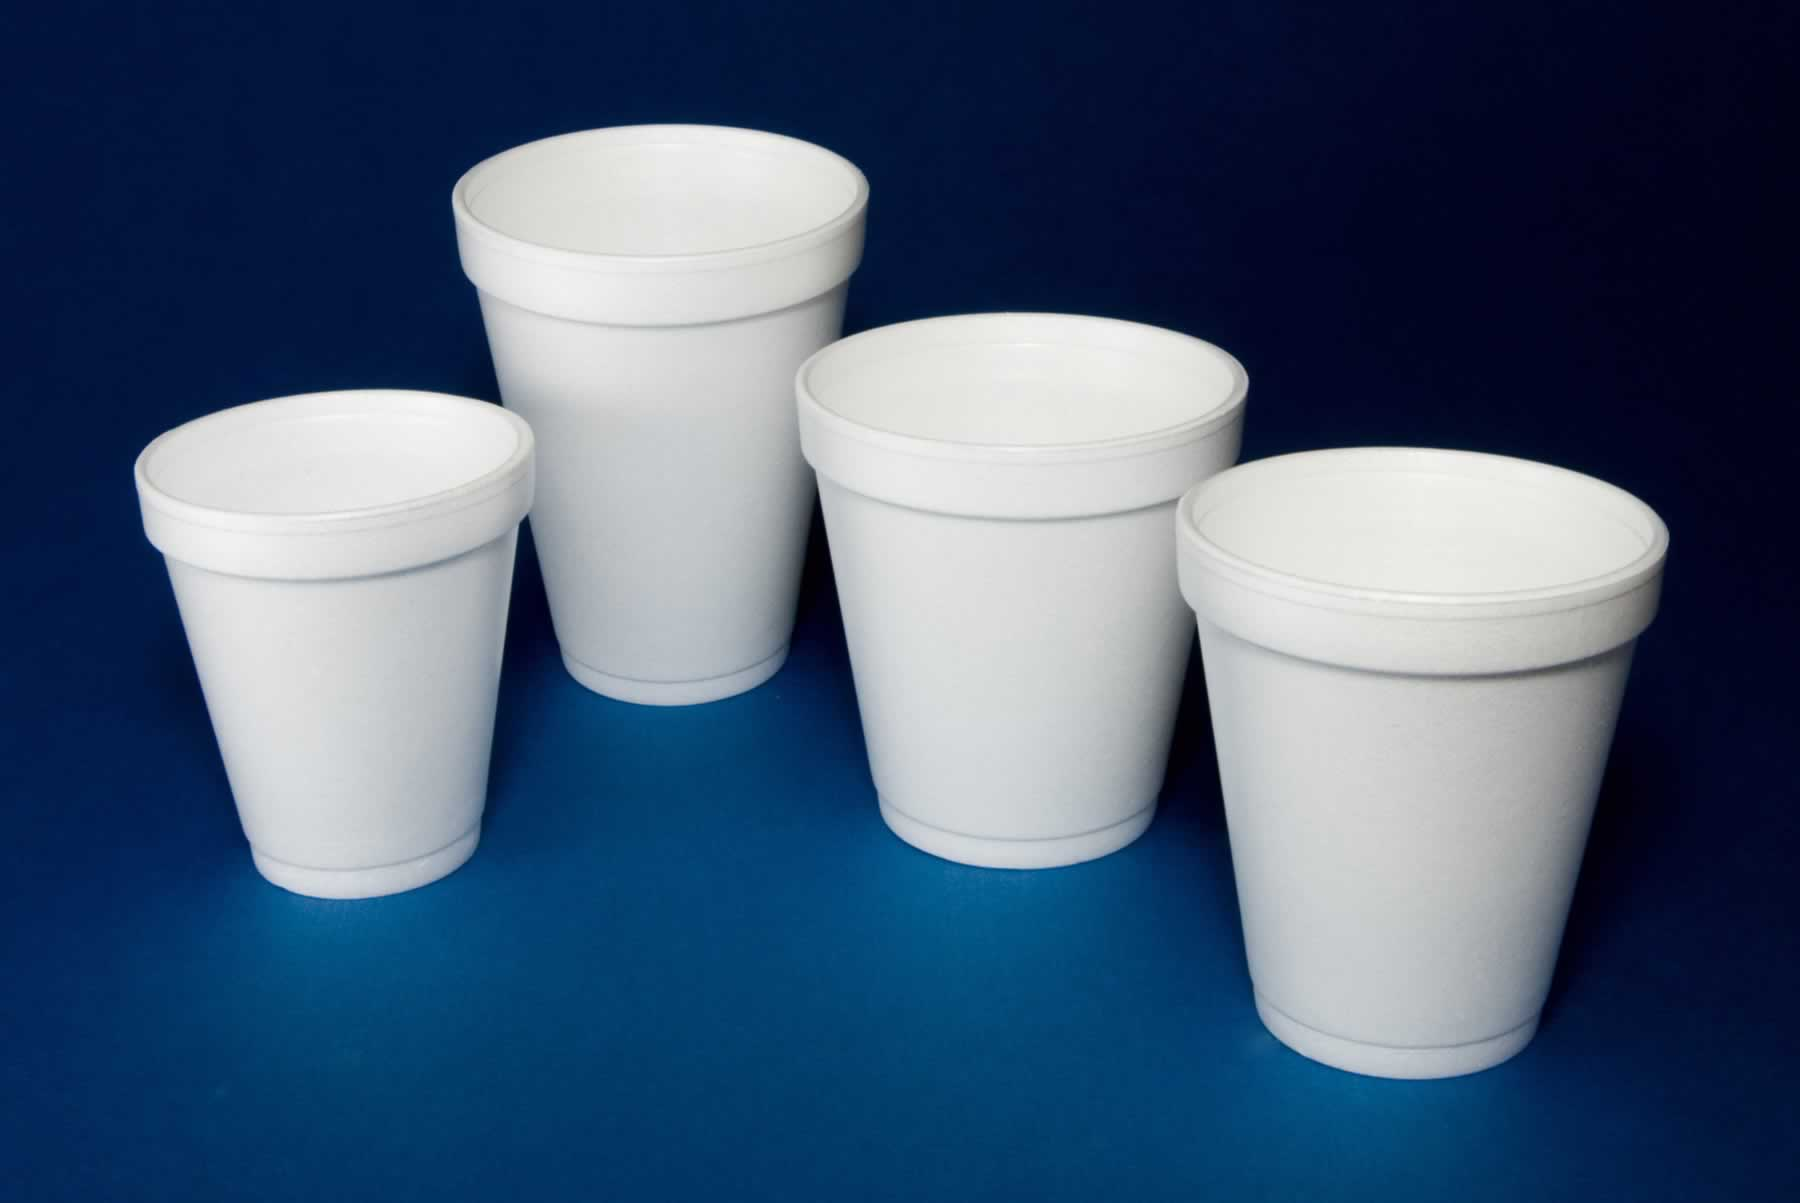Nonrec_Plastic: (1173, 415, 1678, 1082), (108, 355, 573, 953), (799, 274, 1203, 898), (436, 93, 821, 733)
